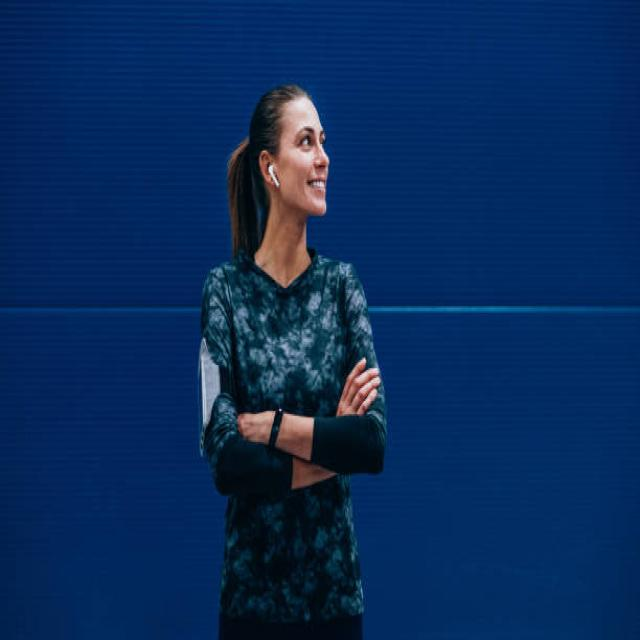airpods: (268, 162, 280, 190)
